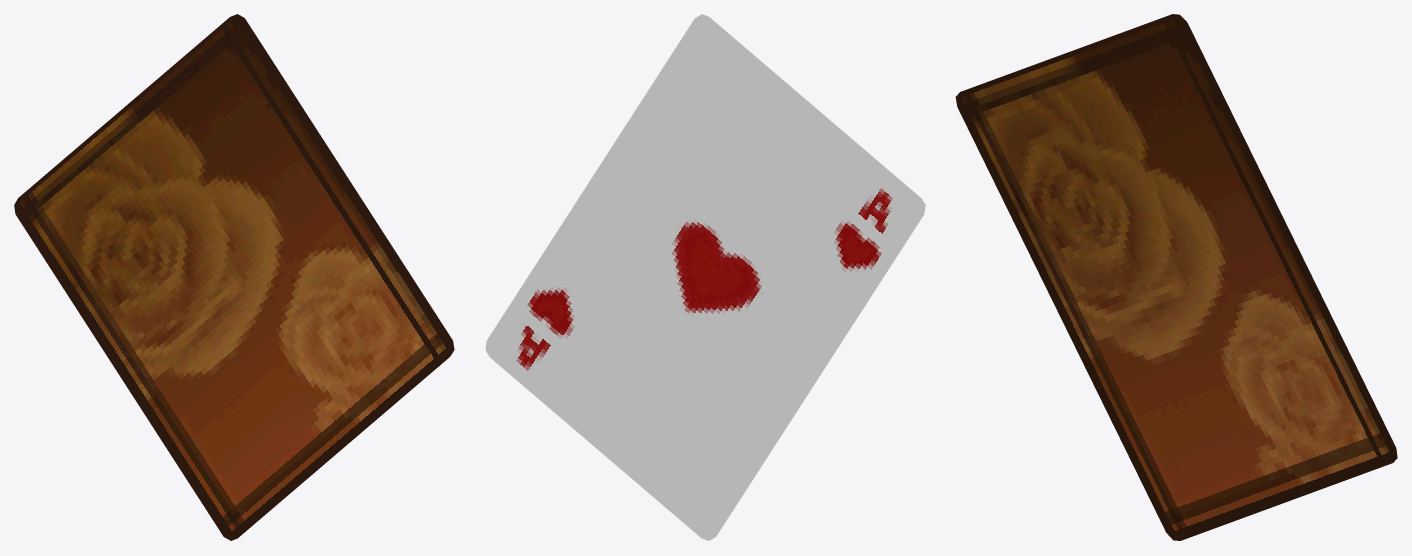
File: ps2_save-icons_tennisnooujisamaloveofprincebitter.glb
3 renders of one model, left to right at view 1: azimuth 30°, elevation 25°; view 2: azimuth 150°, elevation 25°; view 3: azimuth 330°, elevation 25°, orthographic.
Parts seen in each view (by area): view 1: icon.ico; view 2: icon.ico; view 3: icon.ico.
Boxes of the visible parts, bbox=[...] form: icon.ico: bbox=[14, 14, 454, 540]; icon.ico: bbox=[485, 14, 925, 540]; icon.ico: bbox=[955, 14, 1397, 540].
Size of the model in its own units: 4.34 by 4.95 by 0.0239.
Materials: 1 (1 with a texture image).
